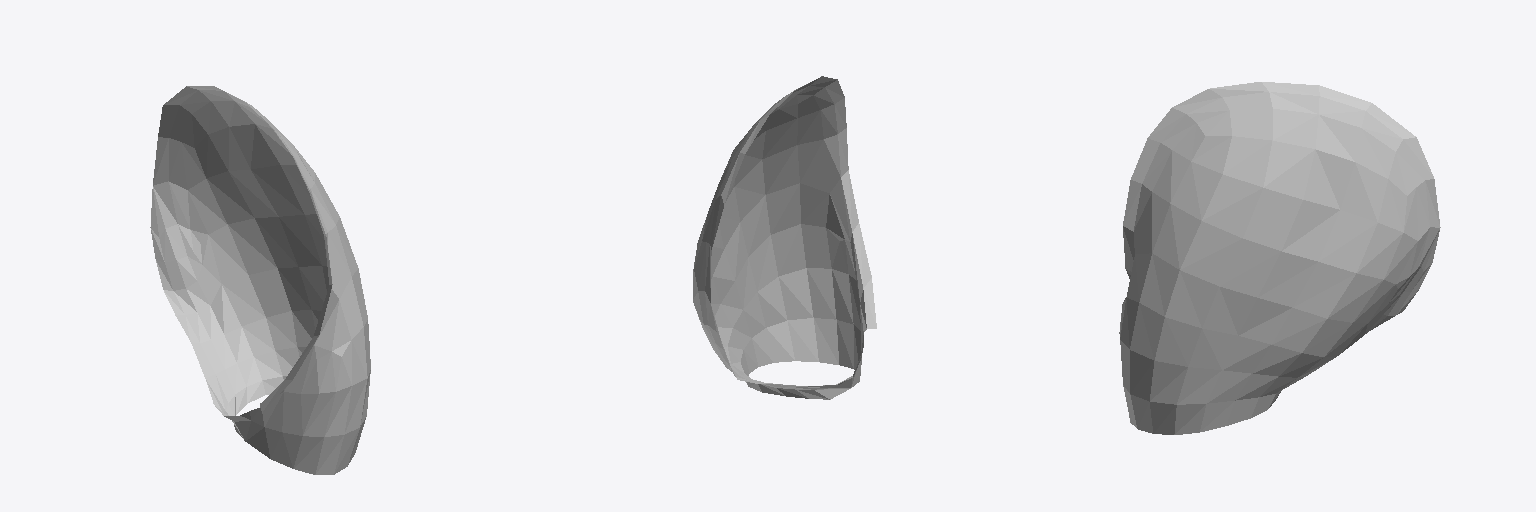
The model's file is rexPiernaIzq.obj.
The picture shows the model from 3 angles: view 1: azimuth 30°, elevation 25°; view 2: azimuth 150°, elevation 25°; view 3: azimuth 270°, elevation 25°; orthographic projection.
Visible parts, largest first — view 1: polySurface231 polySurface220; view 2: polySurface231 polySurface220; view 3: polySurface231 polySurface220.
Part boxes in pixels (bbox=[...]): polySurface231 polySurface220: bbox=[150, 86, 370, 474]; polySurface231 polySurface220: bbox=[693, 76, 876, 399]; polySurface231 polySurface220: bbox=[1119, 82, 1440, 434].
Bounding box in the file's own units: 1.82 × 4.9 × 4.33.